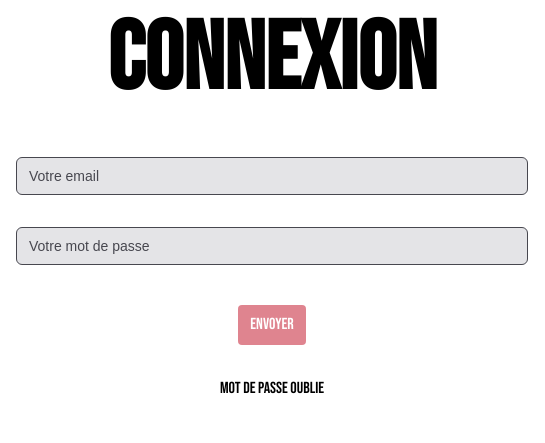
it: LoginPage › affiche l'erreur retournee par l'API si la connexion echoue
Type "admin@test.com" into the field with placeholder "Votre email" at (272, 176), box x1=16 y1=157 x2=528 y2=195
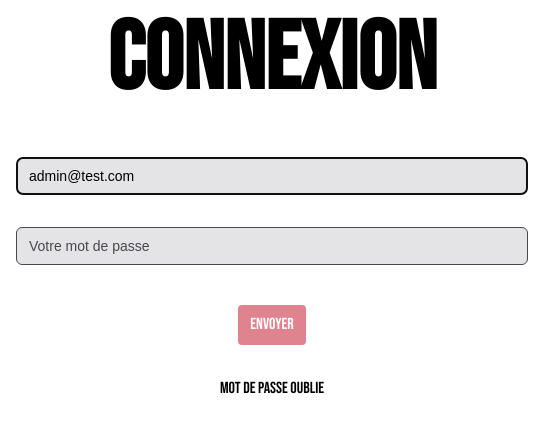
Type "motdepasse" into the password field with placeholder "Votre mot de passe" at (272, 246), box x1=16 y1=227 x2=528 y2=265
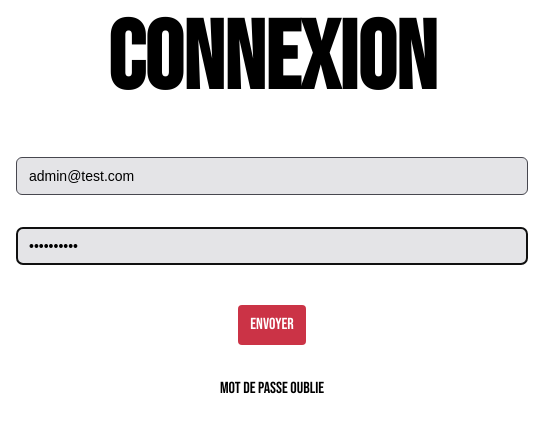
Click the button "Envoyer" at (272, 325), box x1=238 y1=305 x2=306 y2=345
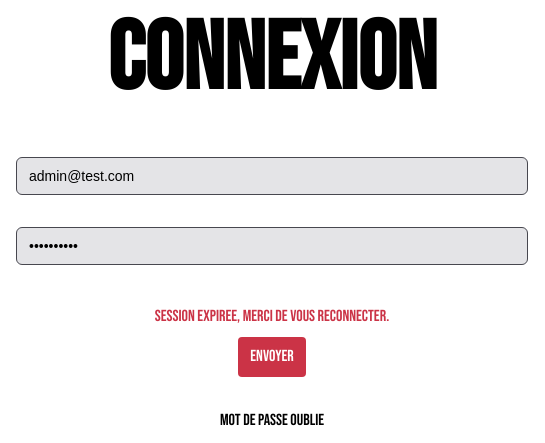
Check: the text "Session expiree, merci de vous reconnecter." is shown, box x1=155 y1=305 x2=389 y2=329
